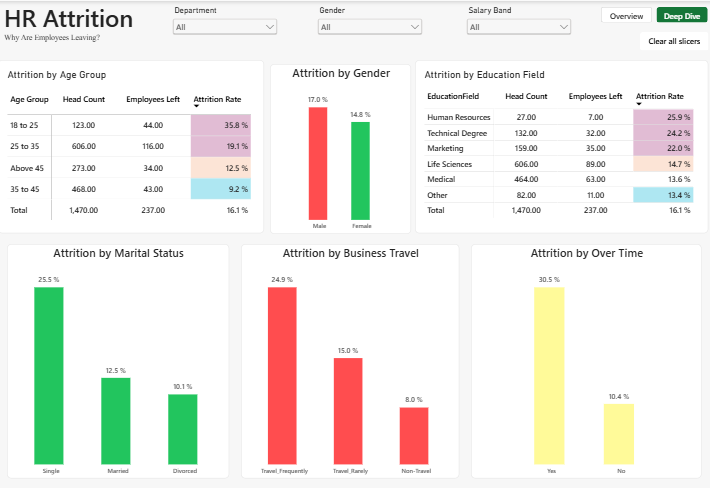

Layout of this report page (visuals, bound fields, positions):
{"tool":"powerbi","page":{"name":"Deep Dive","canvas":[1280,900],"ordinal":1},"visuals":[{"type":"textbox","box":[10.5,0,245.9,56.5],"z":0},{"type":"textbox","box":[10.5,56.5,197.8,22],"z":1000},{"type":"slicer","fields":{"Values":["hr_employees.Department"]},"box":[309.8,8.4,197.8,59.7],"z":2000},{"type":"slicer","fields":{"Values":["hr_employees.Gender"]},"box":[571.4,8.4,197.8,59.7],"z":3000},{"type":"slicer","fields":{"Values":["hr_employees.Salary Band"]},"box":[838.3,8.4,197.8,59.7],"z":4000},{"type":"actionButton","box":[1156.4,56.5,123.5,33.5],"z":5000},{"type":"pageNavigator","box":[1086.3,10.5,193.6,28.3],"z":5001},{"type":"pivotTable","title":"Attrition by Age Group","fields":{"Rows":["hr_employees.Age Group"],"Values":["hr_employees.Head Count","hr_employees.Employees Left","hr_employees.Attrition Rate"]},"box":[0,106.7,479.3,311.9],"z":5002},{"type":"clusteredColumnChart","title":"Attrition by Gender","fields":{"Category":["hr_employees.Gender"],"Y":["hr_employees.Attrition Rate"]},"box":[488.7,113,254.3,305.6],"z":5003},{"type":"pivotTable","title":"Attrition by Education Field","fields":{"Rows":["hr_employees.EducationField"],"Values":["hr_employees.Head Count","hr_employees.Employees Left","hr_employees.Attrition Rate"]},"box":[751.4,106.7,528.5,311.9],"z":5004},{"type":"clusteredColumnChart","title":"Attrition by Marital Status","fields":{"Category":["hr_employees.MaritalStatus"],"Y":["hr_employees.Attrition Rate"]},"box":[16.7,437.4,399.8,421.7],"z":5005},{"type":"clusteredColumnChart","title":"Attrition by Business Travel","fields":{"Category":["hr_employees.BusinessTravel"],"Y":["hr_employees.Attrition Rate"]},"box":[437.4,437.4,393.5,421.7],"z":5006},{"type":"clusteredColumnChart","title":"Attrition by Over Time","fields":{"Category":["hr_employees.OverTime"],"Y":["hr_employees.Attrition Rate"]},"box":[851.9,437.4,415.5,421.7],"z":5007}]}

Visuals, with their boxes in screenshot pixels (x1, y1, x2, y2), scaled from the page's 1280x900 canvas onto the 710x488 screenshot:
textbox: (left=6, top=0, right=142, bottom=31)
textbox: (left=6, top=31, right=116, bottom=43)
slicer - hr_employees.Department: (left=172, top=5, right=282, bottom=37)
slicer - hr_employees.Gender: (left=317, top=5, right=427, bottom=37)
slicer - hr_employees.Salary Band: (left=465, top=5, right=575, bottom=37)
actionButton: (left=641, top=31, right=709, bottom=49)
pageNavigator: (left=603, top=6, right=709, bottom=21)
"Attrition by Age Group" pivotTable: (left=0, top=58, right=266, bottom=227)
"Attrition by Gender" clusteredColumnChart: (left=271, top=61, right=412, bottom=227)
"Attrition by Education Field" pivotTable: (left=417, top=58, right=709, bottom=227)
"Attrition by Marital Status" clusteredColumnChart: (left=9, top=237, right=231, bottom=466)
"Attrition by Business Travel" clusteredColumnChart: (left=243, top=237, right=461, bottom=466)
"Attrition by Over Time" clusteredColumnChart: (left=473, top=237, right=703, bottom=466)
